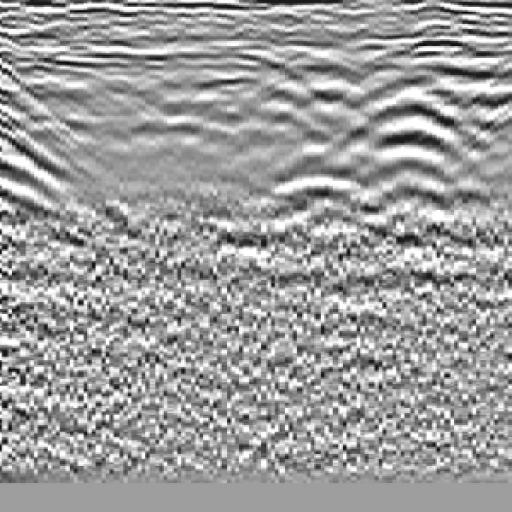metalic: (225, 40, 397, 266)
nonmetalic: (1, 39, 113, 246)
